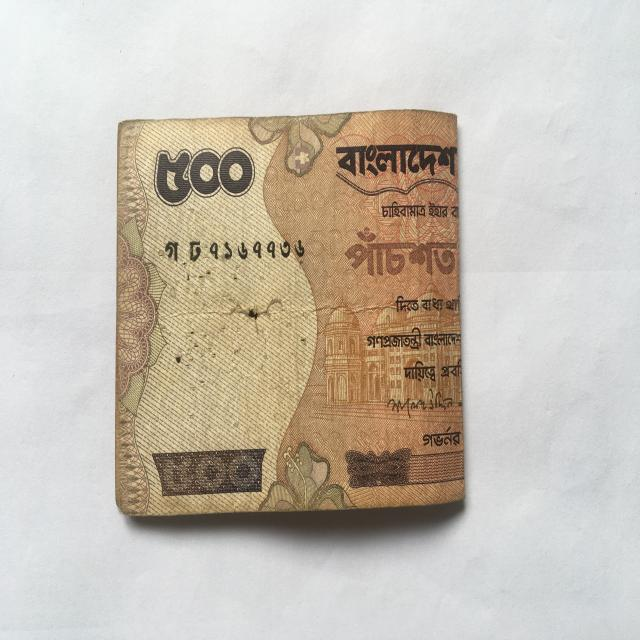Taka: (110, 107, 470, 527)
